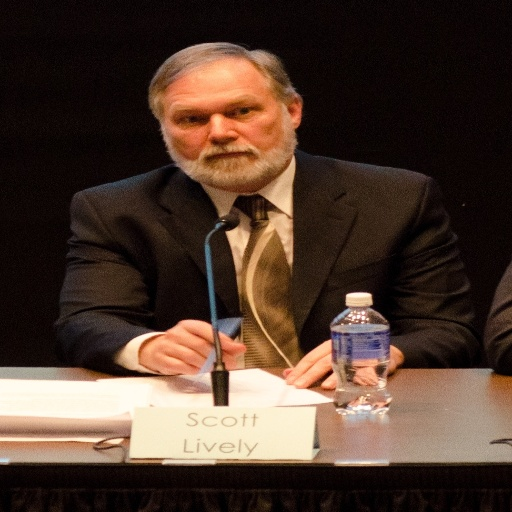hand: (125, 315, 239, 375), (280, 338, 401, 392)
